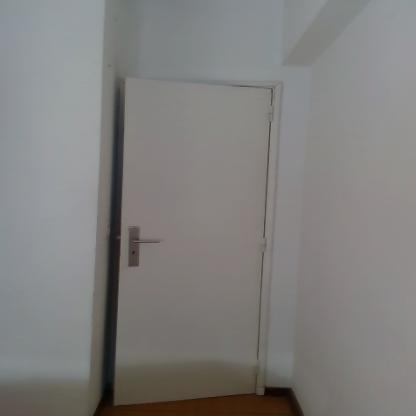door: (125, 78, 273, 404)
hinged: (261, 236, 268, 254), (268, 106, 274, 123), (255, 358, 260, 375)
lever: (132, 240, 162, 245)
